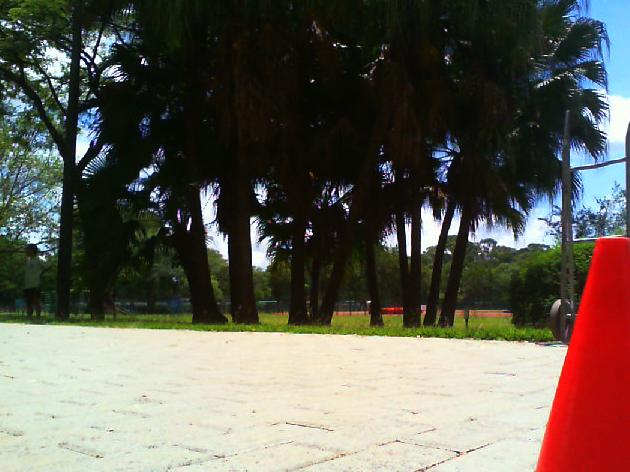0 cone: (534, 236, 630, 472)
